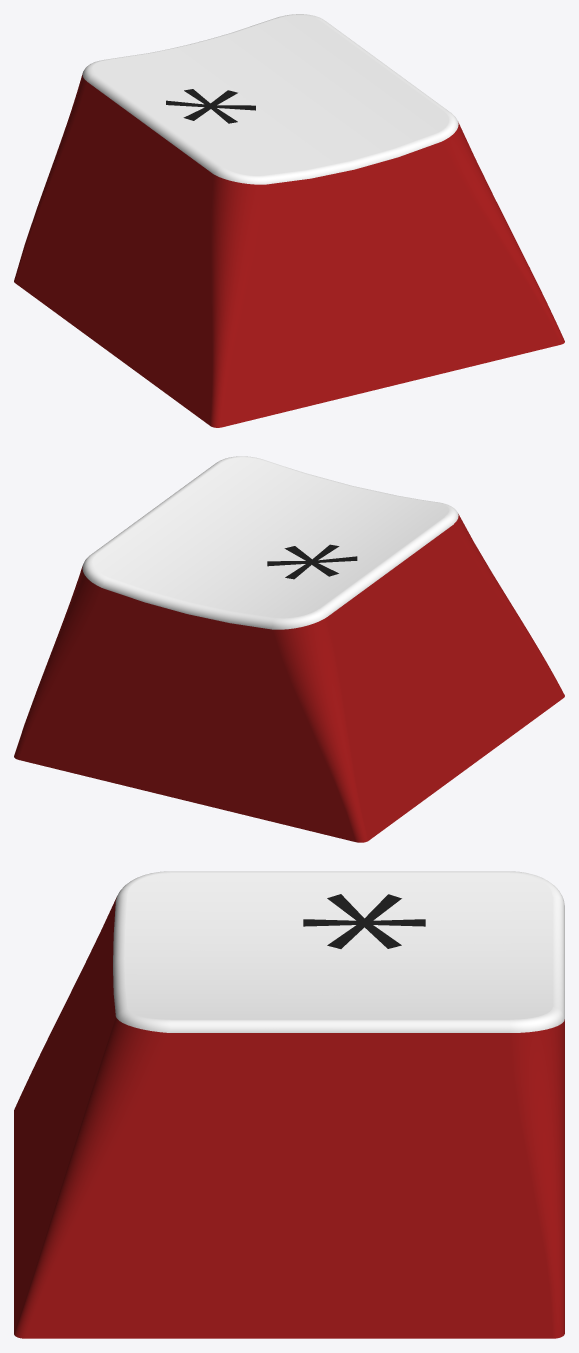
File: NUM Multiply.fbx
The picture shows the model from 3 angles, top to bottom: view 1: azimuth 30°, elevation 25°; view 2: azimuth 150°, elevation 25°; view 3: azimuth 270°, elevation 25°; orthographic projection. The views are drawn at different scales.
Visible parts, largest first — view 1: Body1; view 2: Body1; view 3: Body1.
Boxes of the visible parts, bbox=[...] form: Body1: bbox=[14, 14, 564, 427]; Body1: bbox=[14, 456, 564, 842]; Body1: bbox=[14, 871, 564, 1338].
Size of the model in its own units: 18 by 9.95 by 18.
